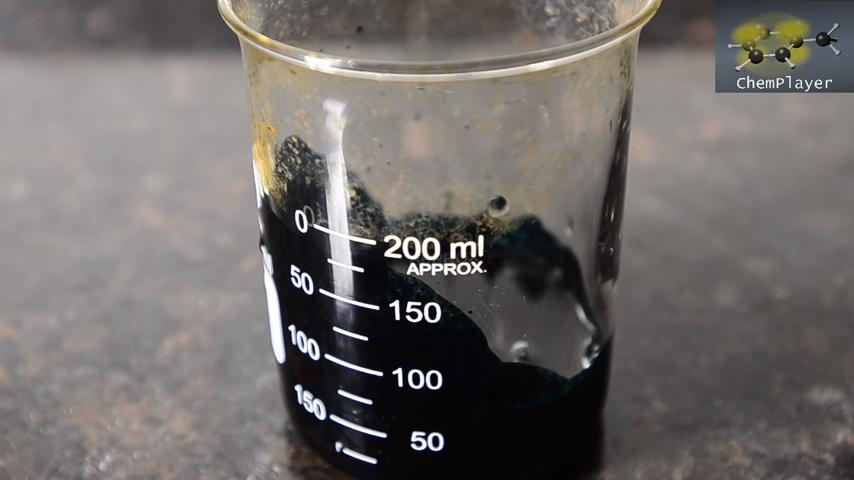Beaker: (205, 8, 687, 476)
